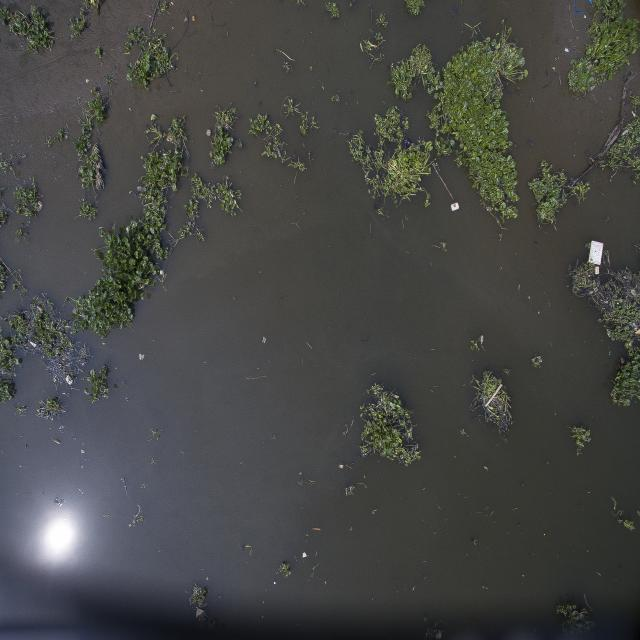Plastic: (588, 236, 604, 275), (64, 372, 74, 387), (450, 202, 460, 212), (404, 138, 412, 149)
